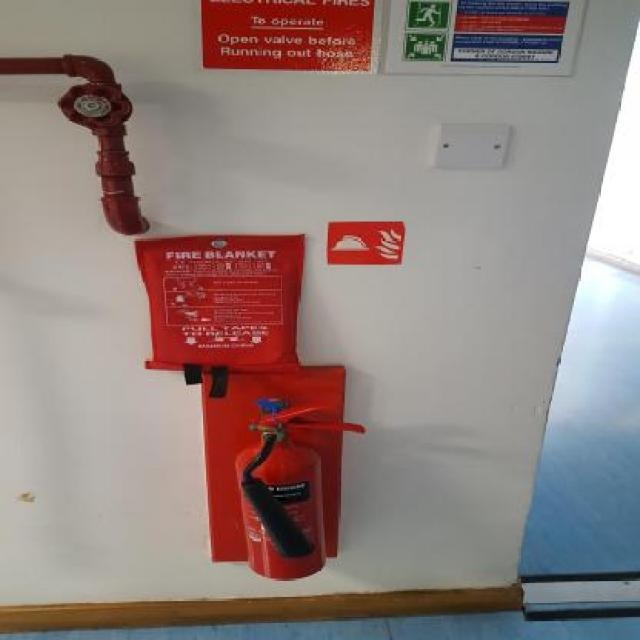fire extinguisher: (236, 400, 367, 582)
